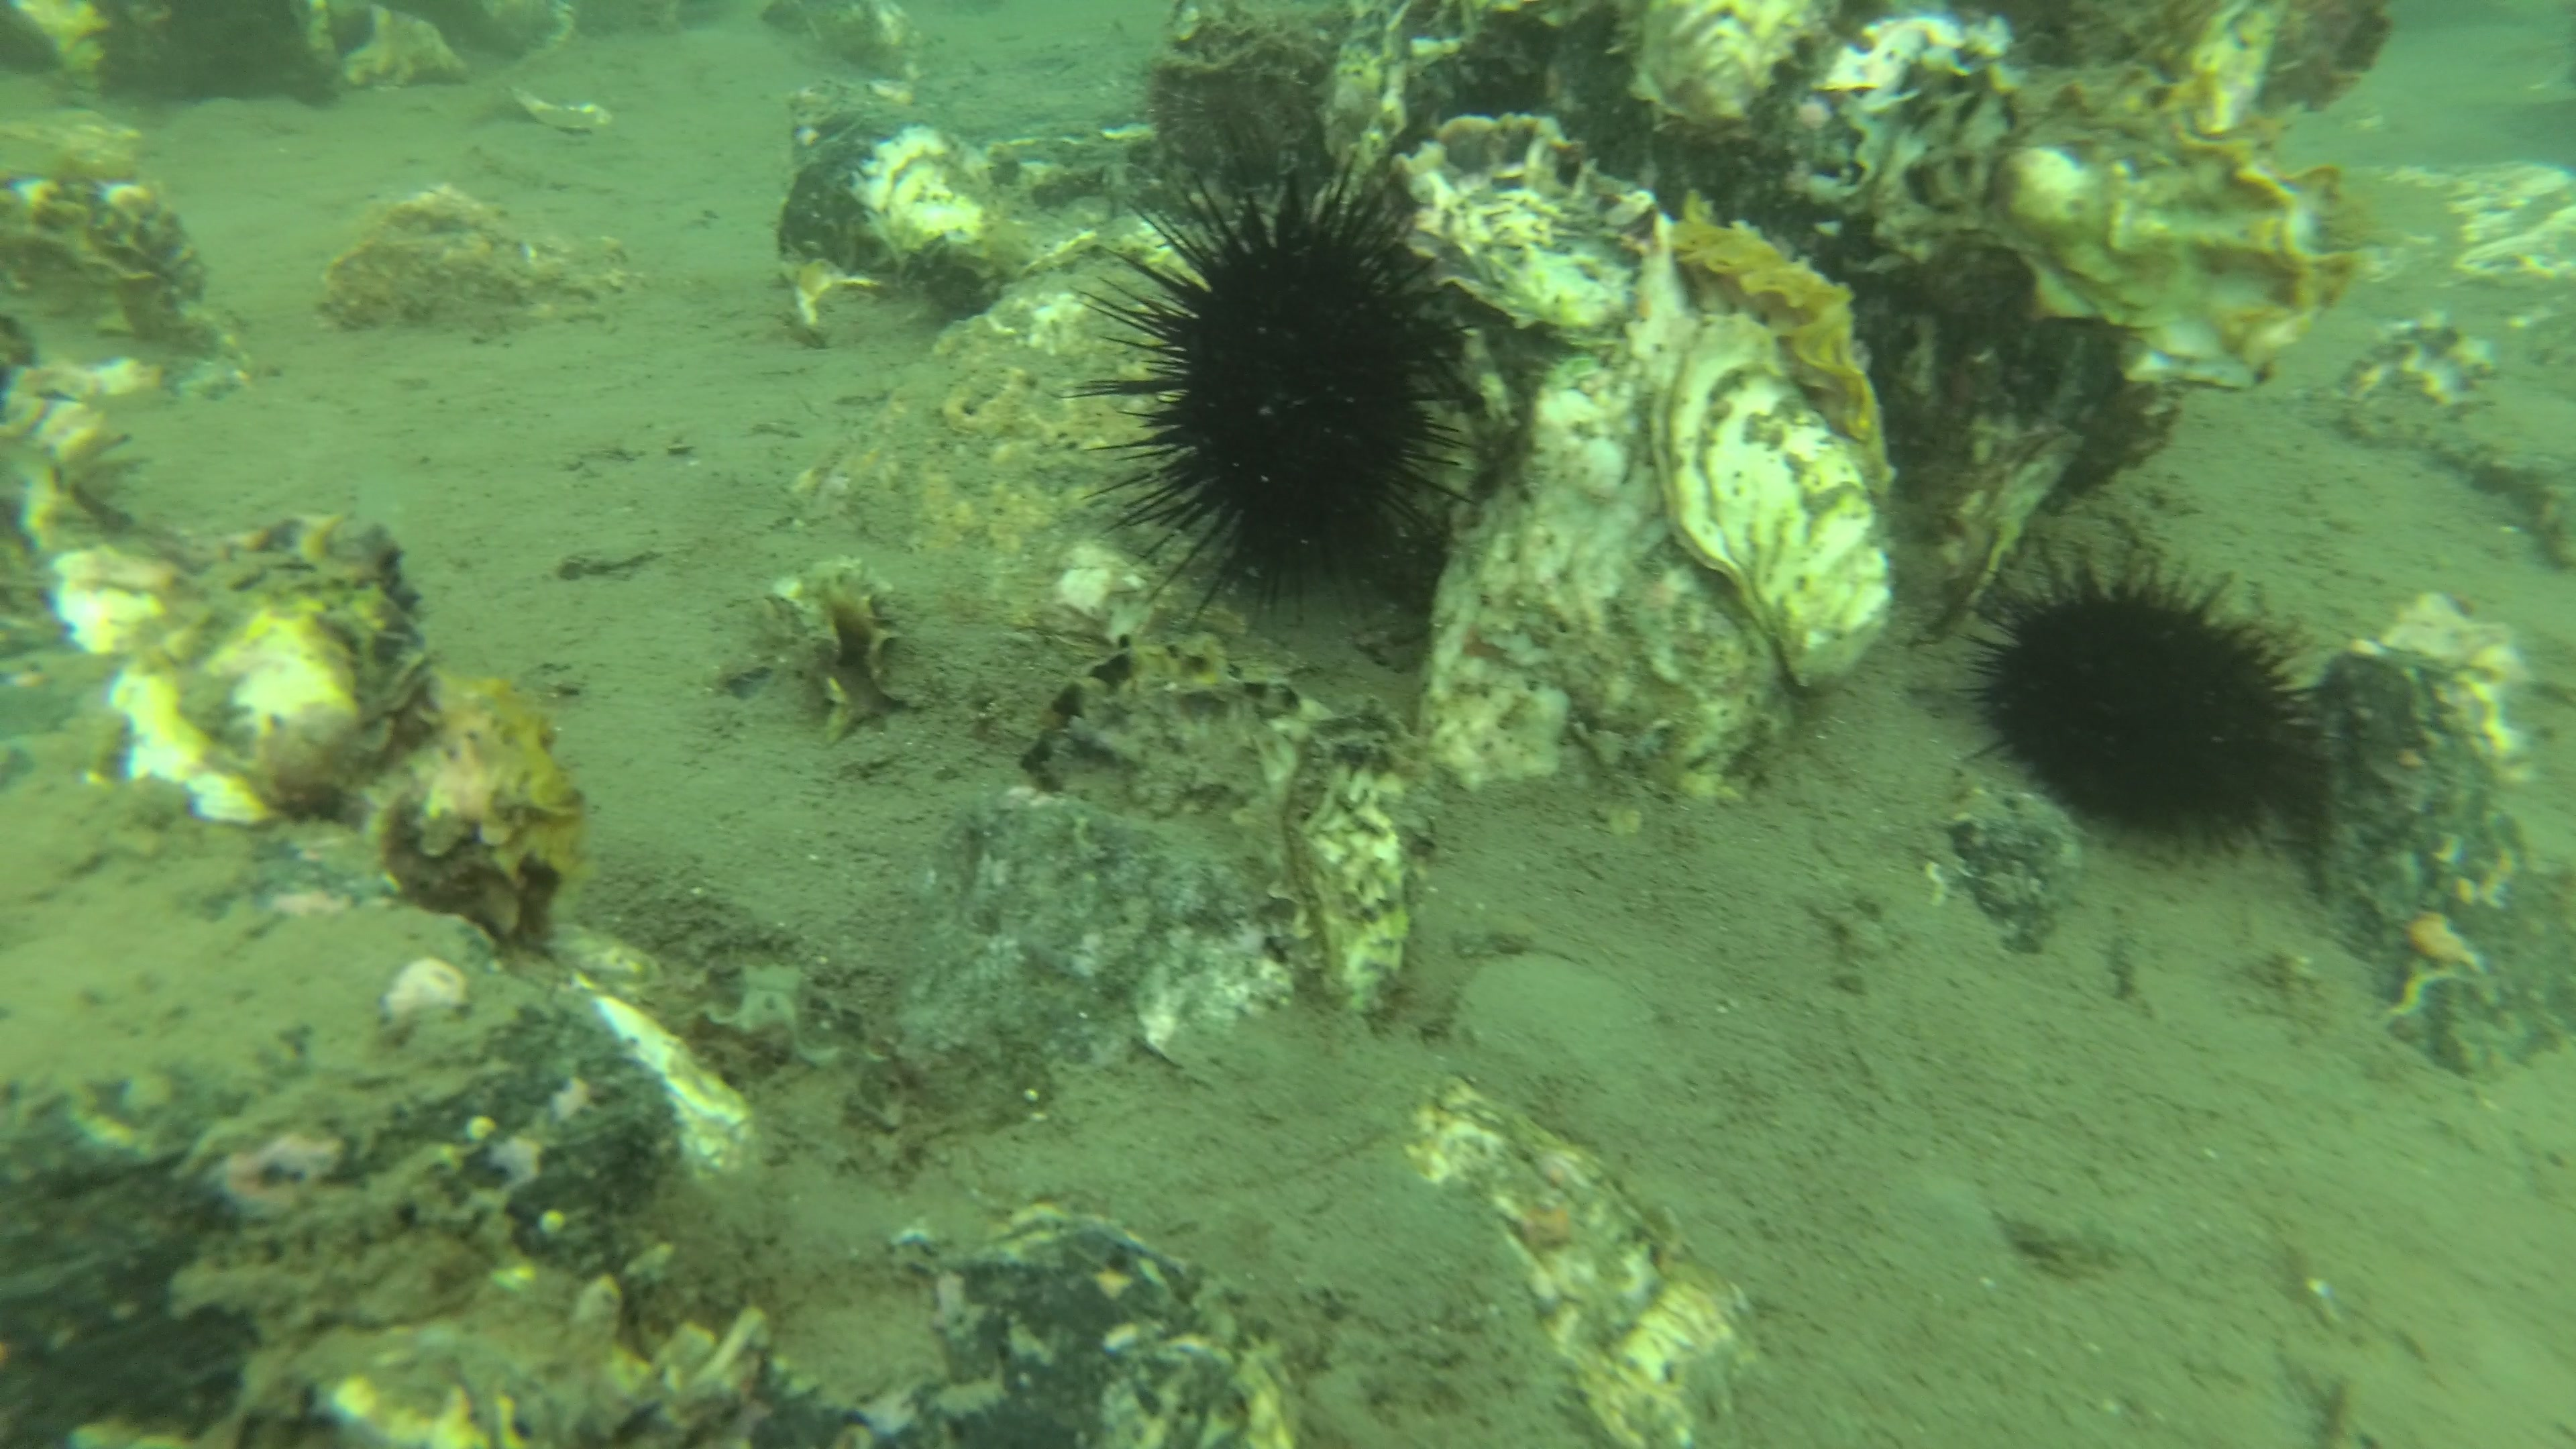echinus: (1072, 161, 1486, 633), (1955, 559, 2341, 867)
